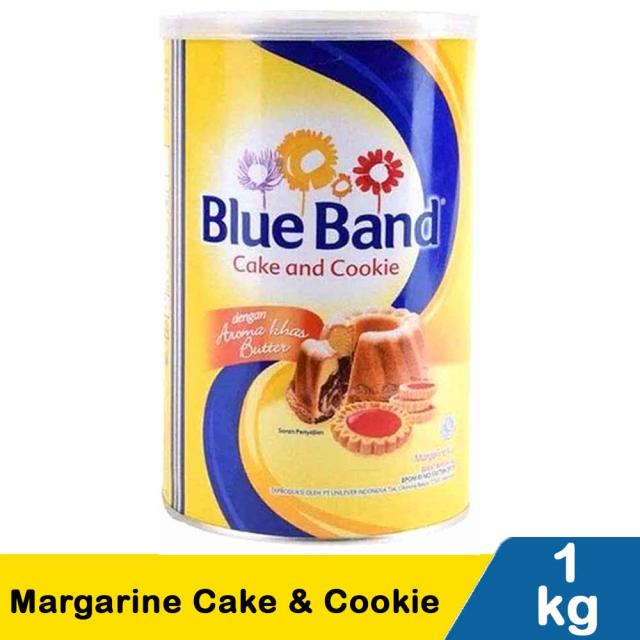butter: (160, 10, 476, 541)
